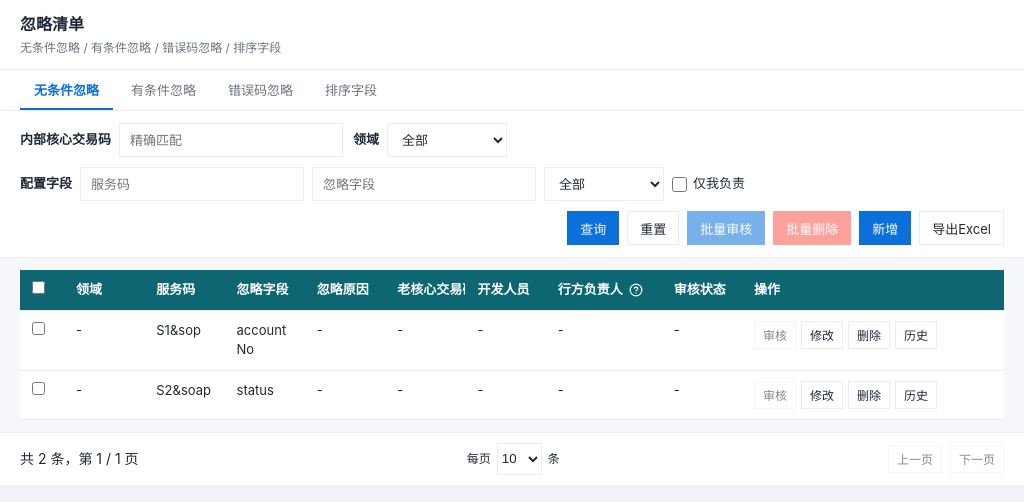
it: ReplayConfigPage（忽略清单） › switches tab and reloads with the new resource type
The width and height of the screenshot is (1024, 502).
Click the tab with test id "tab-conditional-ignores". click: {"x": 164, "y": 90}
box: [117,70,210,110]
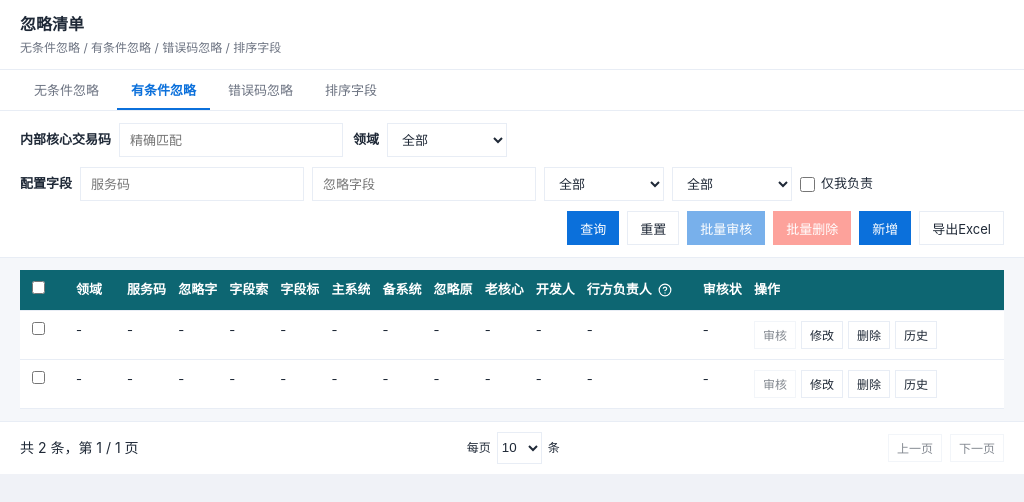
Expected: the text "字段索引" is shown, [229,280,281,300]
